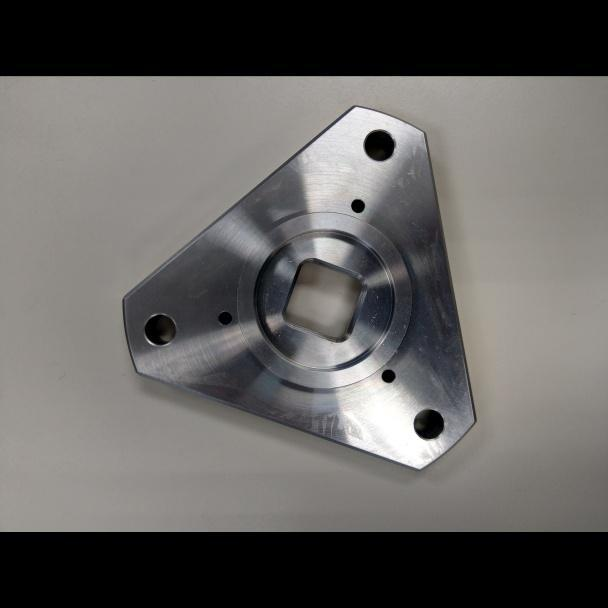hole: (140, 309, 179, 349), (410, 403, 447, 444), (361, 126, 397, 163), (348, 194, 369, 214), (378, 366, 399, 386), (215, 307, 234, 329)
